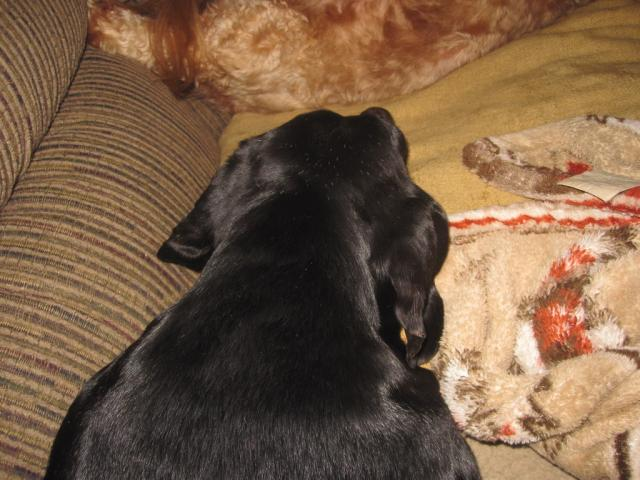Dog: (39, 104, 481, 480), (83, 0, 595, 115)
